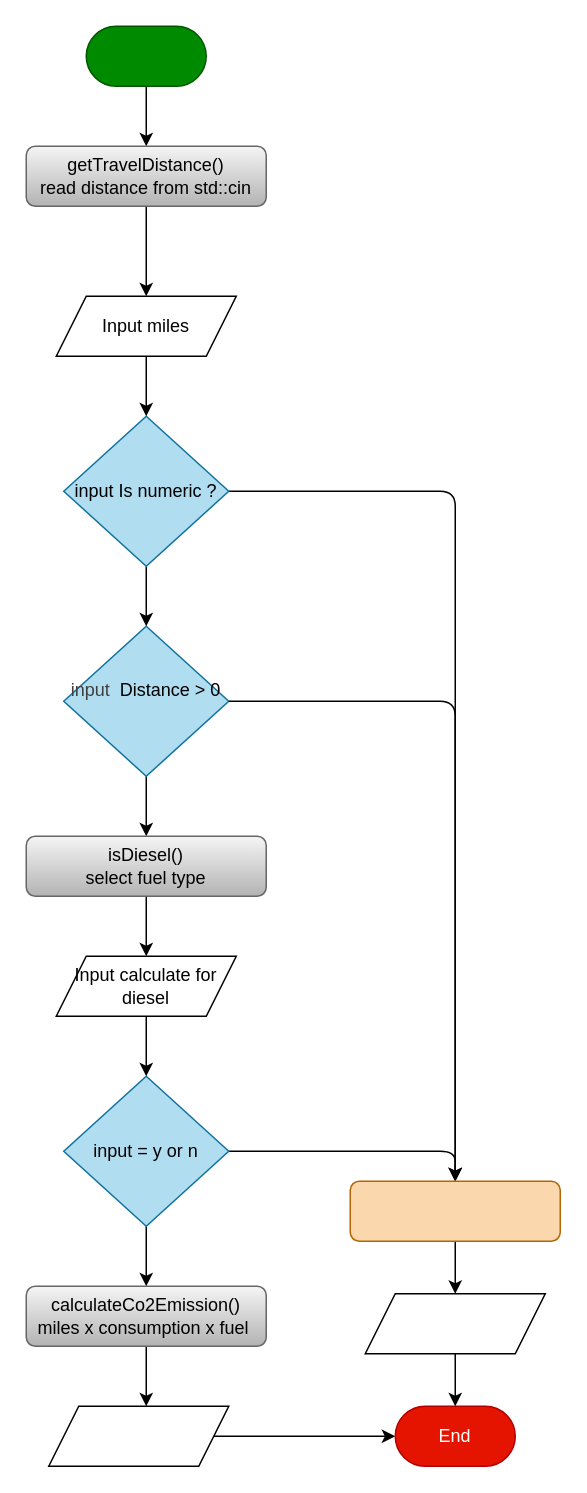
This 587x1493 diagram has some shape labels left out. The centre of each missing label's shape, as x and y in pixels:
"Catch exception" belongs at point (454, 1210).
"Output error message" belongs at point (454, 1323).
"Output results" belongs at point (138, 1435).
"Start" belongs at point (145, 55).
